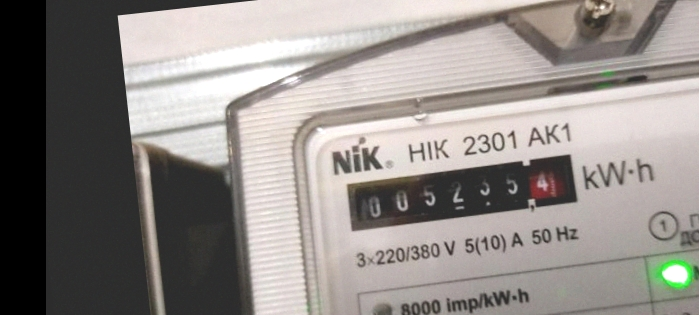0: (366, 192, 384, 218), (394, 187, 411, 212)
2: (448, 177, 466, 204)
3: (474, 171, 494, 197)
4: (532, 164, 553, 195)
5: (502, 167, 521, 196), (421, 181, 438, 207)
screen: (332, 142, 588, 241)
